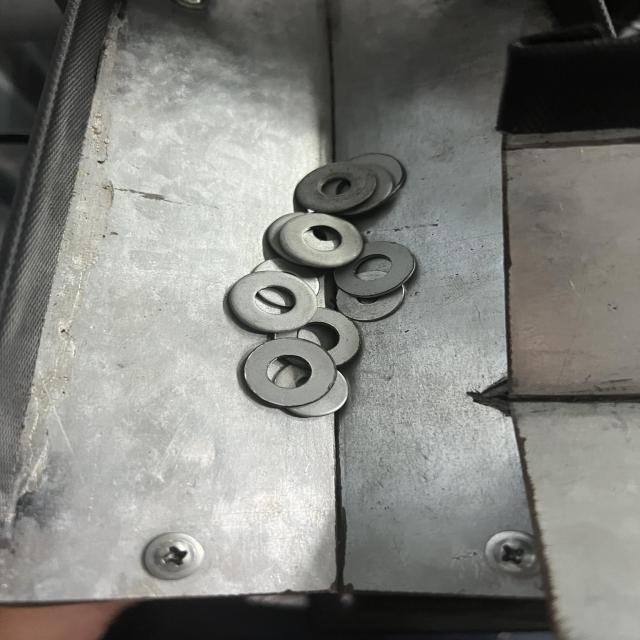washer: (244, 337, 333, 406), (226, 270, 320, 334), (280, 213, 367, 266)
